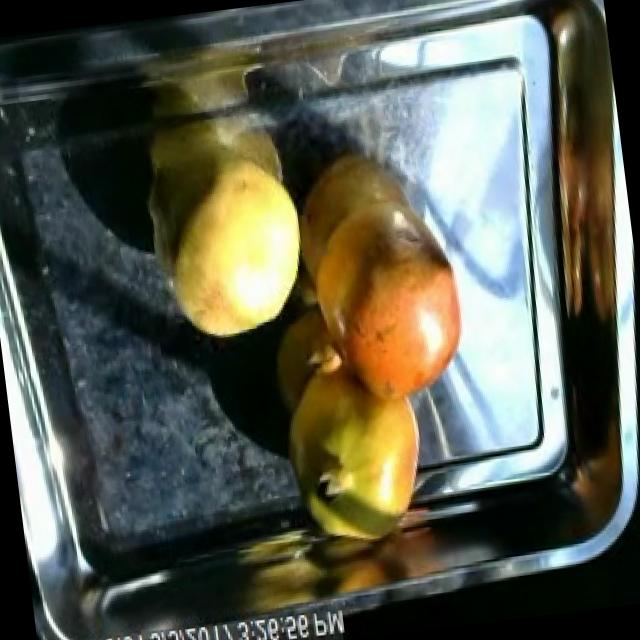fruit: (290, 180, 483, 424), (140, 130, 322, 357), (268, 340, 444, 561)
